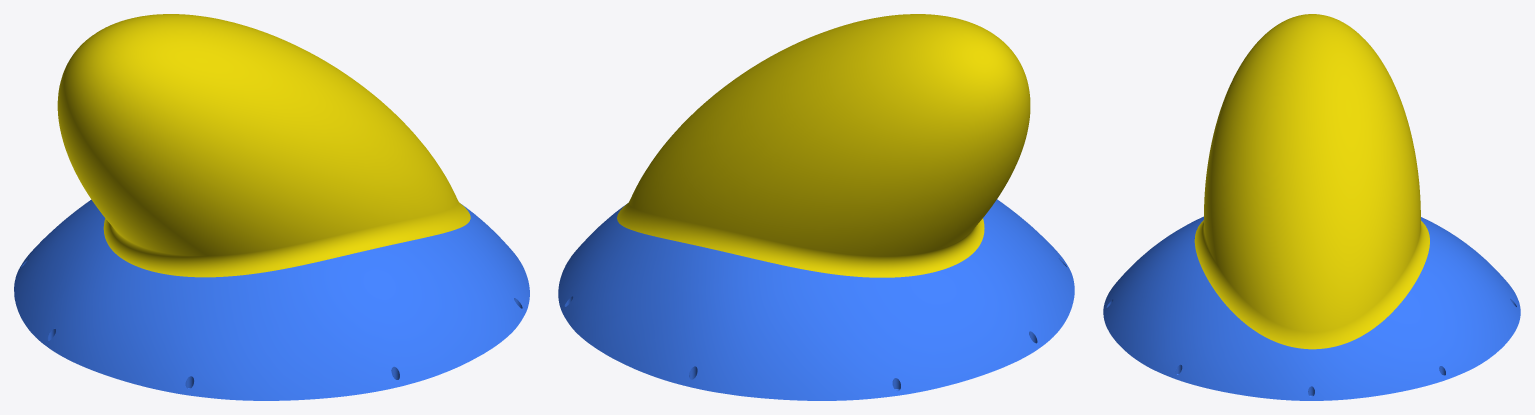
The model's file is hold_convex_no8.glb.
3 views of the same model, side by side, from view 1: azimuth 30°, elevation 25°; view 2: azimuth 150°, elevation 25°; view 3: azimuth 270°, elevation 25° (orthographic). The views are drawn at different scales.
Visible parts, largest first — view 1: Object_2, Object_3; view 2: Object_2, Object_3; view 3: Object_2, Object_3.
Part boxes in pixels (bbox=[...]): Object_2: bbox=[57, 14, 470, 277]; Object_3: bbox=[14, 199, 529, 400]; Object_2: bbox=[617, 14, 1030, 277]; Object_3: bbox=[558, 199, 1074, 400]; Object_2: bbox=[1194, 14, 1429, 349]; Object_3: bbox=[1103, 216, 1520, 400].
Bounding box in the file's own units: 484 × 304 × 481.
